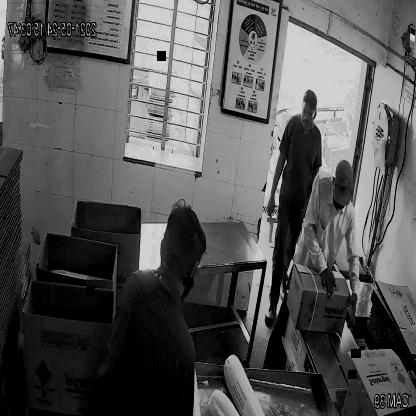goggles: (301, 104, 317, 122)
